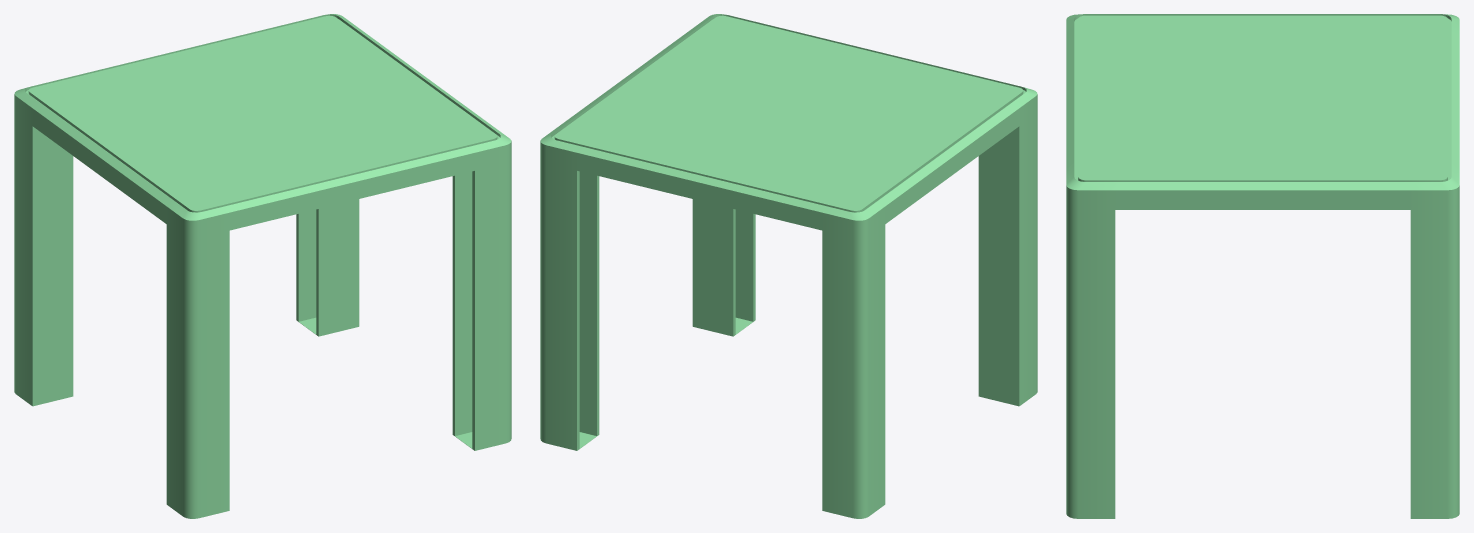
Rendered from Chair.fbx.
3 renders of one model, left to right at view 1: azimuth 30°, elevation 25°; view 2: azimuth 150°, elevation 25°; view 3: azimuth 270°, elevation 25°, orthographic. The views are drawn at different scales.
Parts seen in each view (by area): view 1: Cube.005; view 2: Cube.005; view 3: Cube.005.
Boxes of the visible parts, <box> form: Cube.005: <box>14,14,511,518</box>; Cube.005: <box>540,14,1037,518</box>; Cube.005: <box>1066,14,1459,518</box>.
Size of the model in its own units: 150 by 133 by 142.
